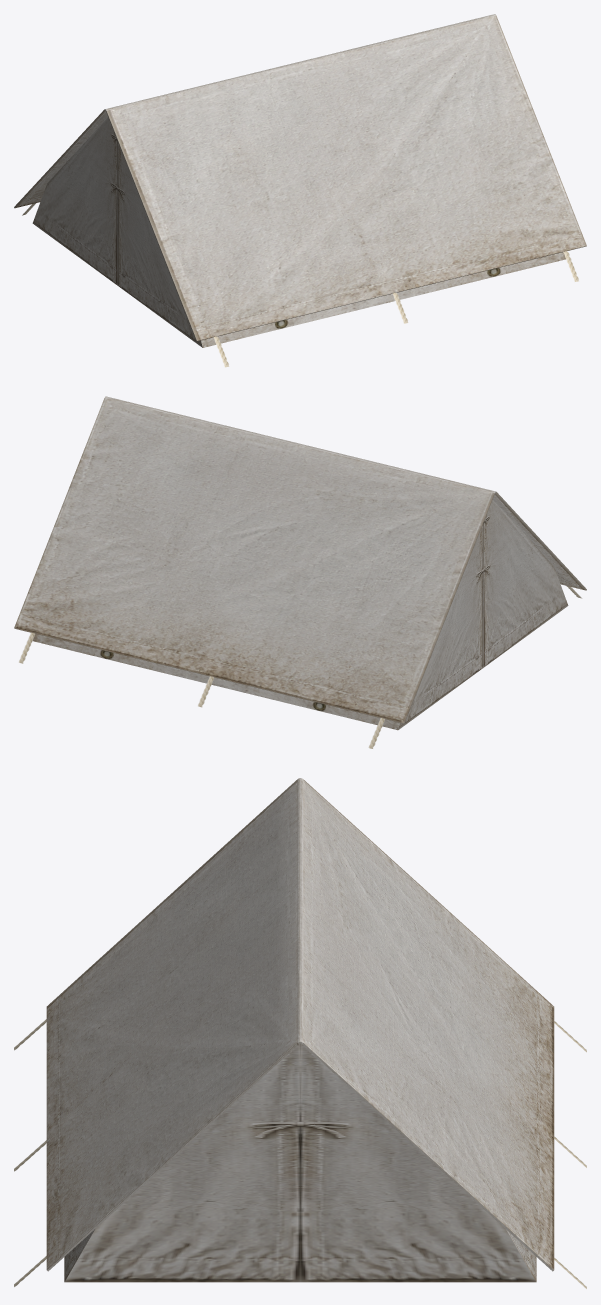
File: tent_test1.glb
3 views of the same model, one above another, from view 1: azimuth 30°, elevation 25°; view 2: azimuth 150°, elevation 25°; view 3: azimuth 270°, elevation 25° (orthographic). The views are drawn at different scales.
Parts seen in each view (by area): view 1: tent_roof1, tent1, ropes; view 2: tent_roof1, tent1, ropes; view 3: tent_roof1, tent1, ropes.
Boxes of the visible parts, x1=… form: tent_roof1: x1=14, y1=14, x2=586, y2=341; tent1: x1=32, y1=117, x2=565, y2=347; ropes: x1=22, y1=203, x2=578, y2=367; tent_roof1: x1=14, y1=396, x2=586, y2=723; tent1: x1=32, y1=500, x2=568, y2=730; ropes: x1=18, y1=586, x2=582, y2=748; tent_roof1: x1=46, y1=778, x2=554, y2=1271; tent1: x1=64, y1=1043, x2=536, y2=1282; ropes: x1=14, y1=1019, x2=586, y2=1288.
Size of the model in its own units: 6.4 by 2.93 by 5.87.
Materials: 2 (2 with a texture image).
